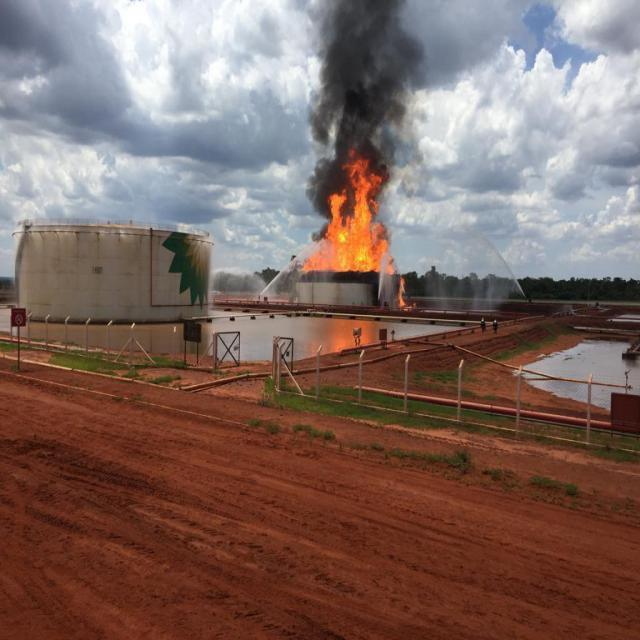Fire: (301, 162, 398, 276), (398, 279, 409, 307)
